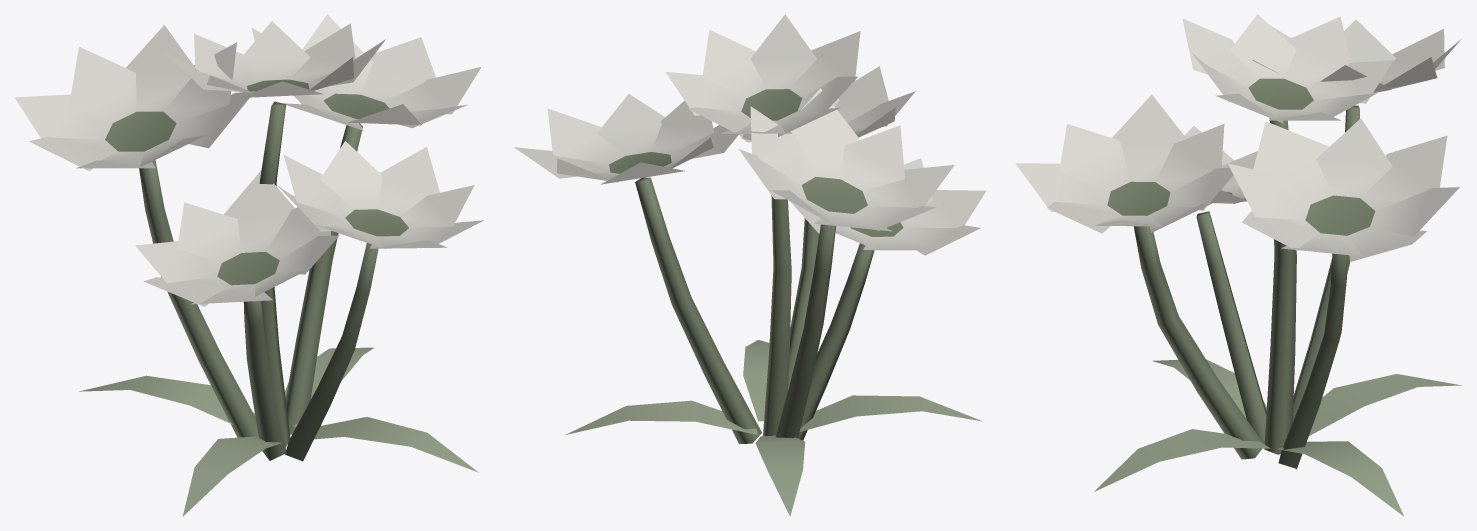
File: flower_cluster.glb
3 views of the same model, side by side, from view 1: azimuth 30°, elevation 25°; view 2: azimuth 150°, elevation 25°; view 3: azimuth 270°, elevation 25° (orthographic). The views are drawn at different scales.
Parts seen in each view (by area): view 1: Body; view 2: Body; view 3: Body.
Boxes of the visible parts, x1=… form: Body: x1=14, y1=14, x2=483, y2=516; Body: x1=514, y1=14, x2=986, y2=516; Body: x1=1015, y1=14, x2=1462, y2=516.
Bounding box in the file's own units: 0.8033 × 0.7394 × 0.715.
